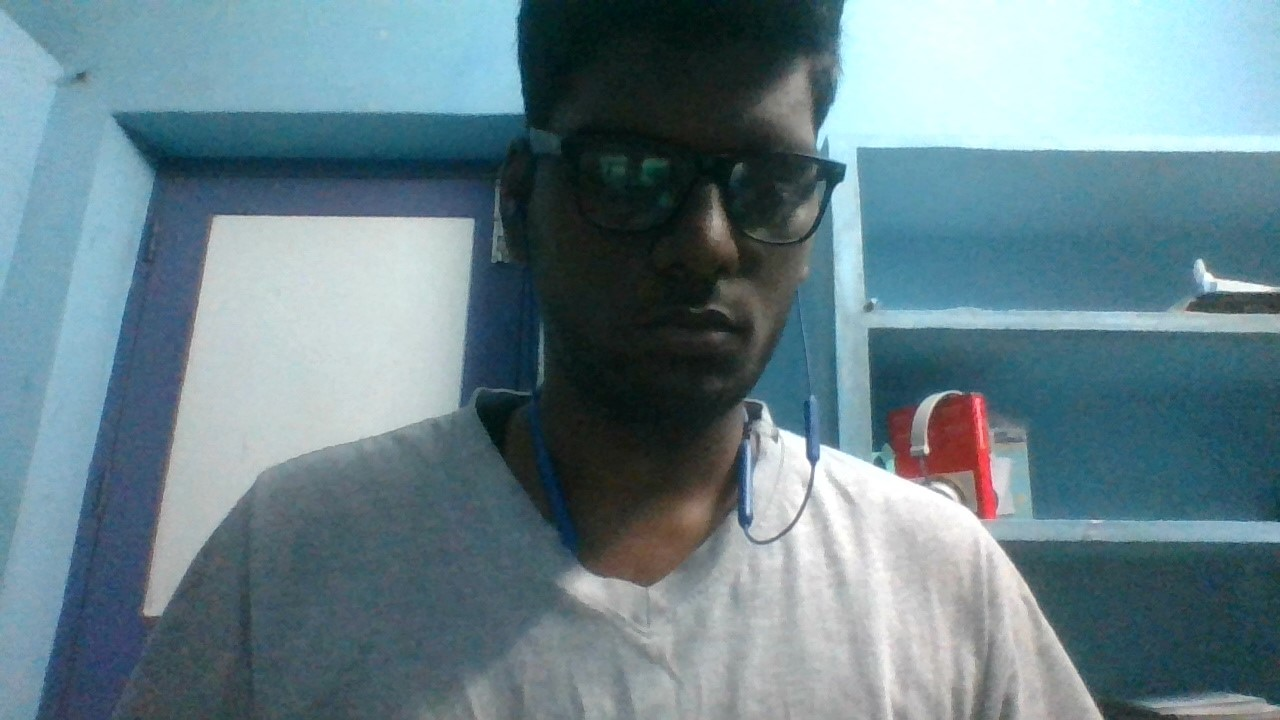person: (155, 1, 1114, 720)
